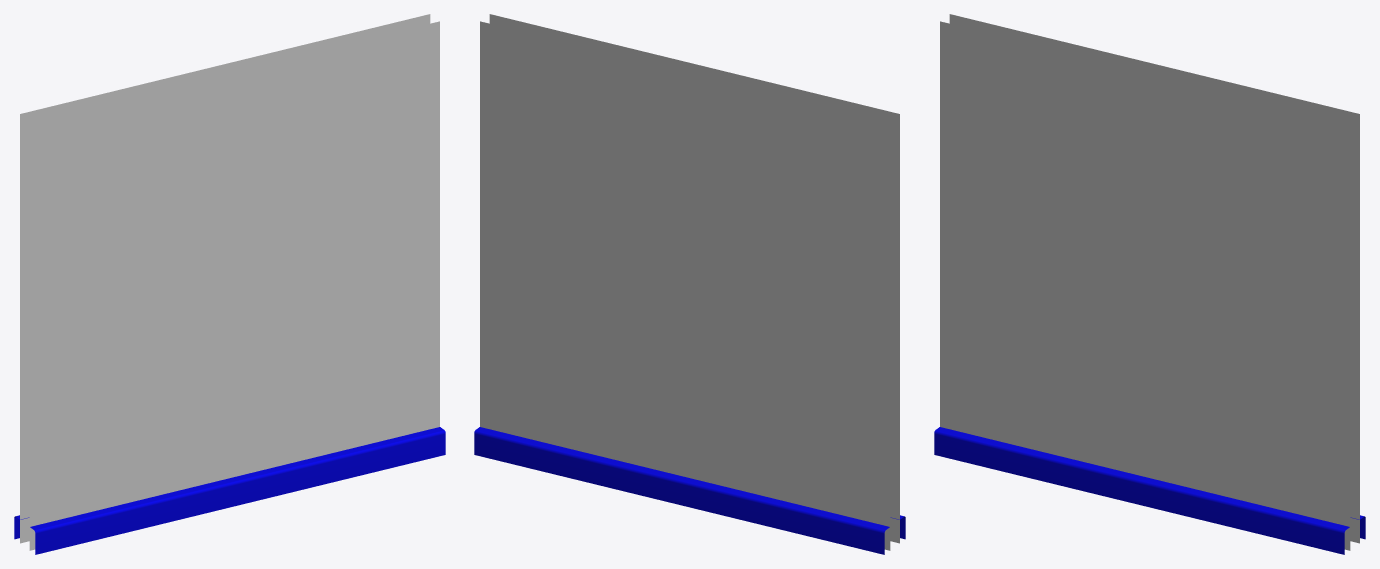
The model's file is PlainWall.fbx.
The picture shows the model from 3 angles, left to right: view 1: azimuth 30°, elevation 25°; view 2: azimuth 150°, elevation 25°; view 3: azimuth 330°, elevation 25°; orthographic projection.
Visible parts, largest first — view 1: Wall, Trim; view 2: Wall, Trim; view 3: Wall, Trim.
Boxes of the visible parts, x1,y1,x2,y2 form: Wall: (20, 14, 439, 550); Trim: (14, 427, 445, 554); Wall: (480, 14, 899, 550); Trim: (474, 427, 905, 554); Wall: (940, 14, 1359, 550); Trim: (934, 427, 1365, 554).
Size of the model in its own units: 12 by 12 by 1.07.
